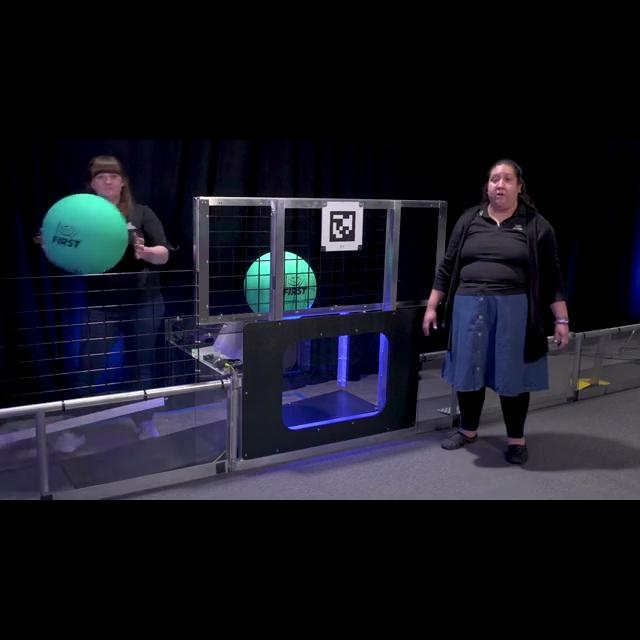ALGAE: (40, 192, 128, 274), (243, 250, 317, 314)
